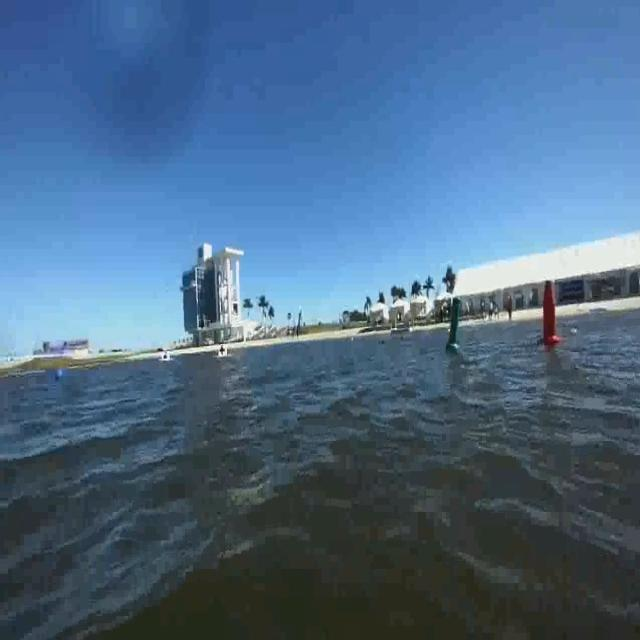blue-buoy: (54, 368, 64, 384)
green-column-buoy: (446, 298, 464, 353)
red-column-buoy: (540, 281, 563, 346)
